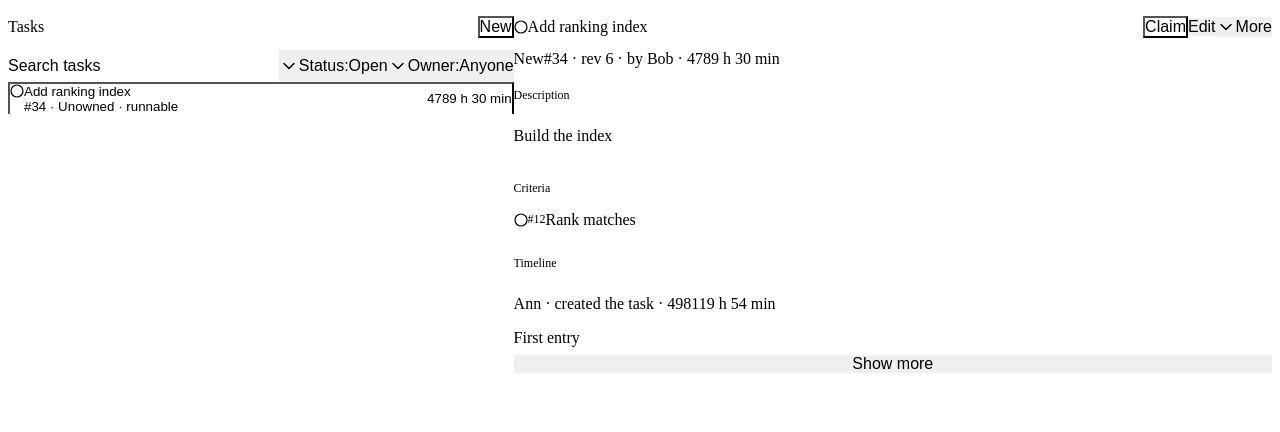
Task work board › appends timeline pages and refreshes changed task details
Check: the text "First entry" is shown, box [514,328,580,346]
Click the button "Show more".
click(893, 364)  # box [514,354,1272,372]
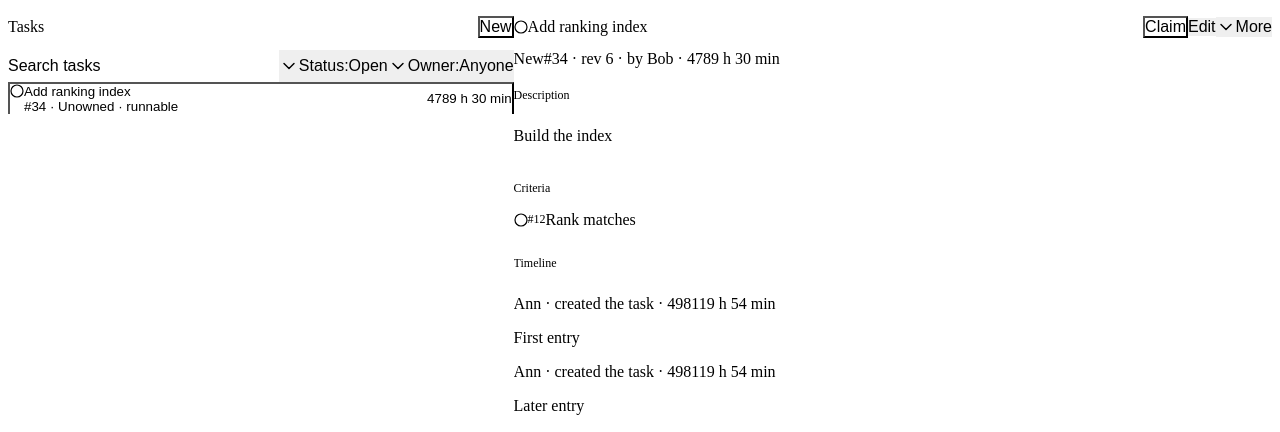
Check: the text "First entry" is shown, box [514,328,580,346]
Check: the text "Later entry" is shown, box [514,396,584,414]
